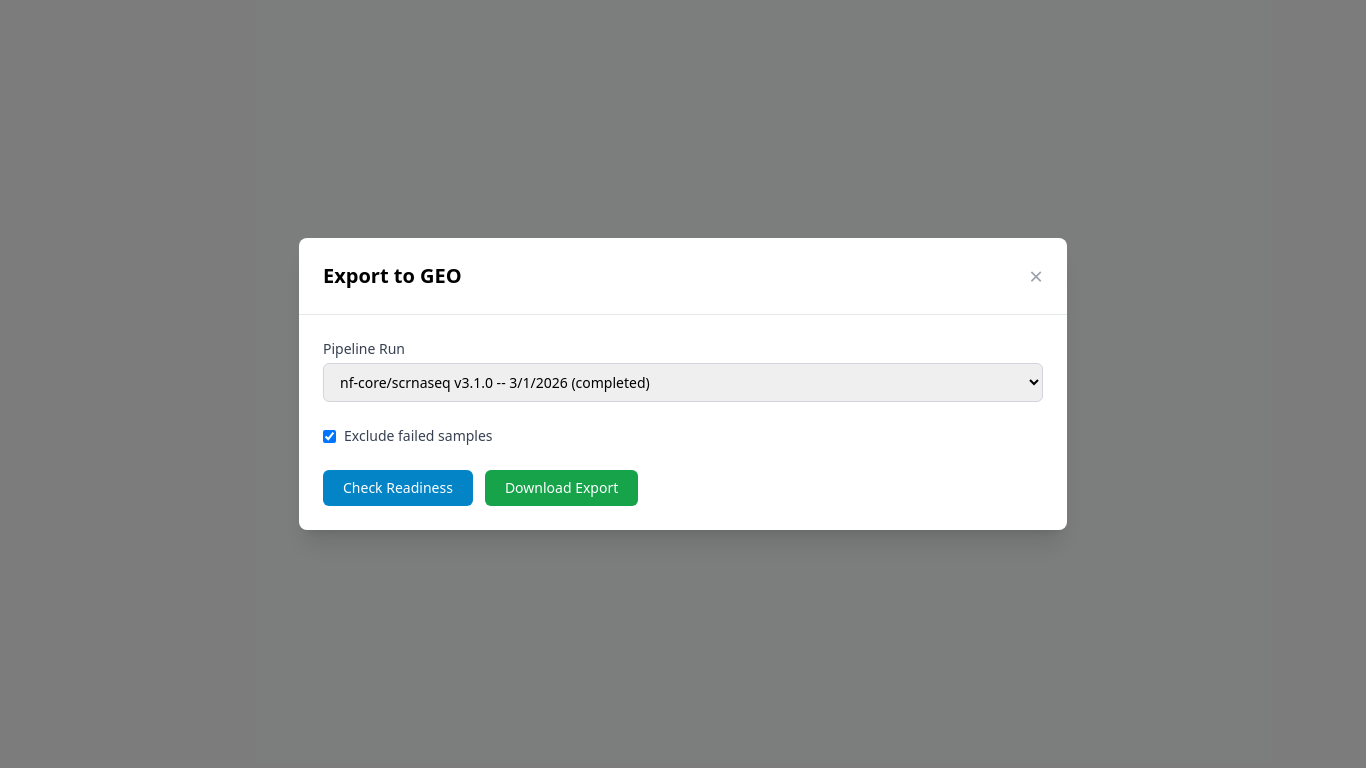
GeoExportModal › renders validation summary after Check Readiness succeeds
This screenshot has width=1366, height=768.
Click the button "Check Readiness": (398, 488) [323,470,473,506]
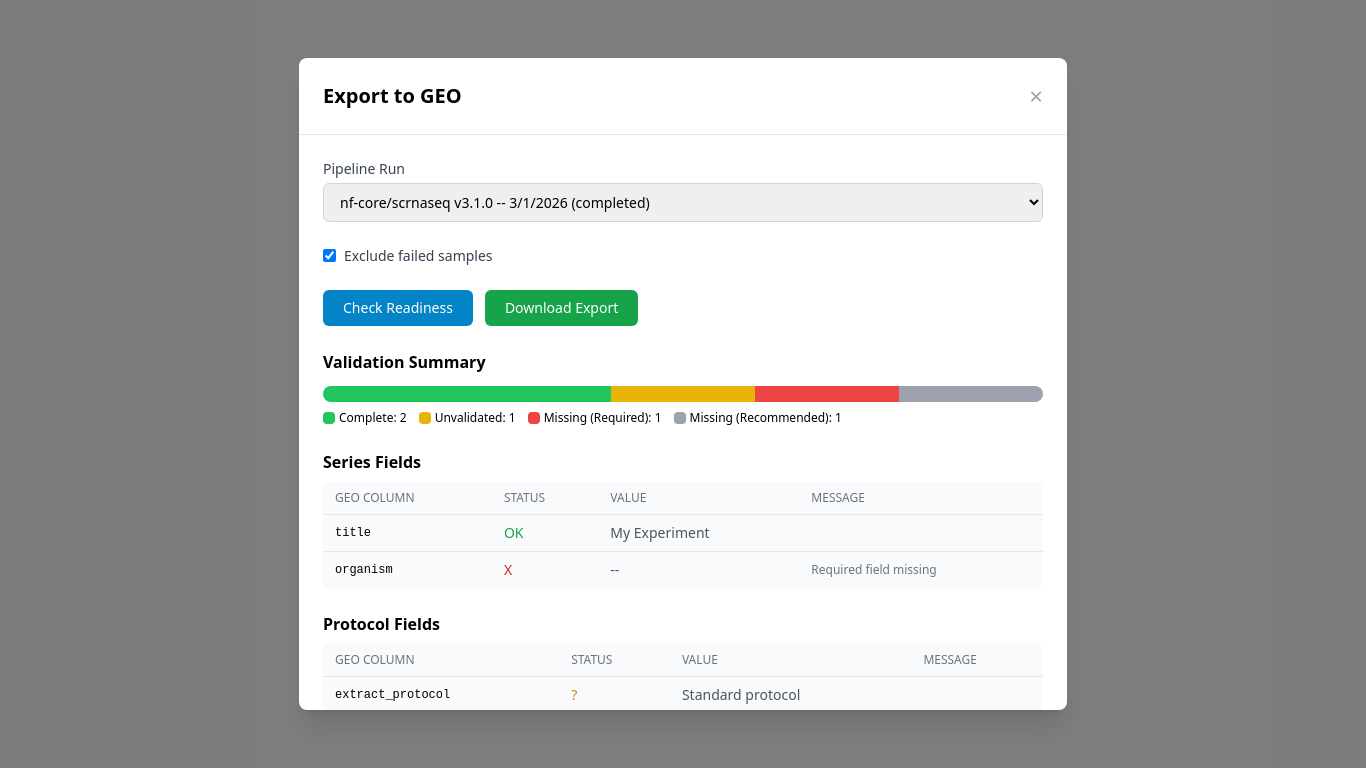
Check: the heading "Validation Summary" is shown, box [323,351,486,373]
Check: the text "Complete: 2" is shown, box [339,410,407,426]
Check: the text "Missing (Required): 1" is shown, box [544,410,662,426]
